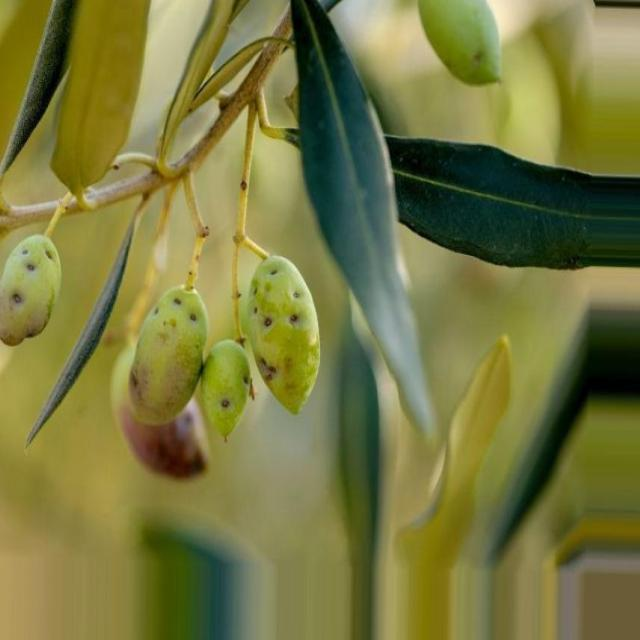Anthracnose: (244, 255, 320, 412), (129, 280, 208, 424), (0, 235, 61, 342), (200, 339, 253, 441)
